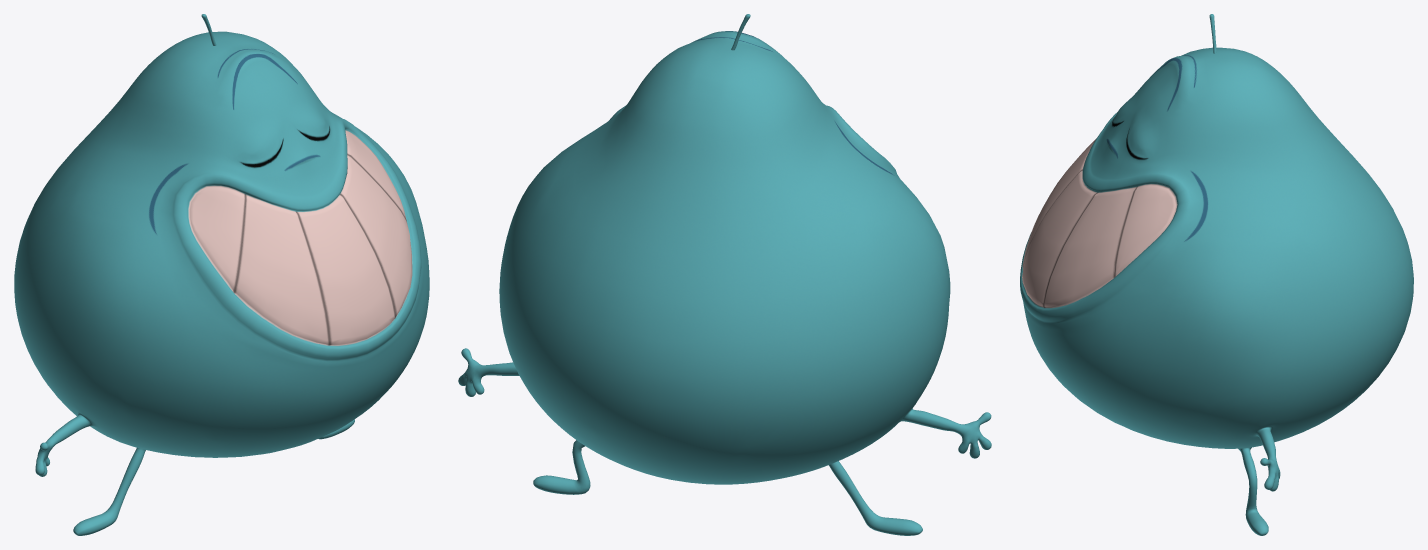
The picture shows the model from 3 angles, left to right: view 1: azimuth 30°, elevation 25°; view 2: azimuth 150°, elevation 25°; view 3: azimuth 270°, elevation 25°; orthographic projection. The views are drawn at different scales.
Parts seen in each view (by area): view 1: character_6.1; view 2: character_6.1; view 3: character_6.1.
Part boxes in pixels (left/top/right/bottom): character_6.1: left=14, top=14, right=429, bottom=535; character_6.1: left=458, top=14, right=991, bottom=535; character_6.1: left=1020, top=14, right=1413, bottom=535.
Bounding box in the file's own units: 0.0901 × 0.092 × 0.0739.
Materials: 1 (1 with a texture image).
